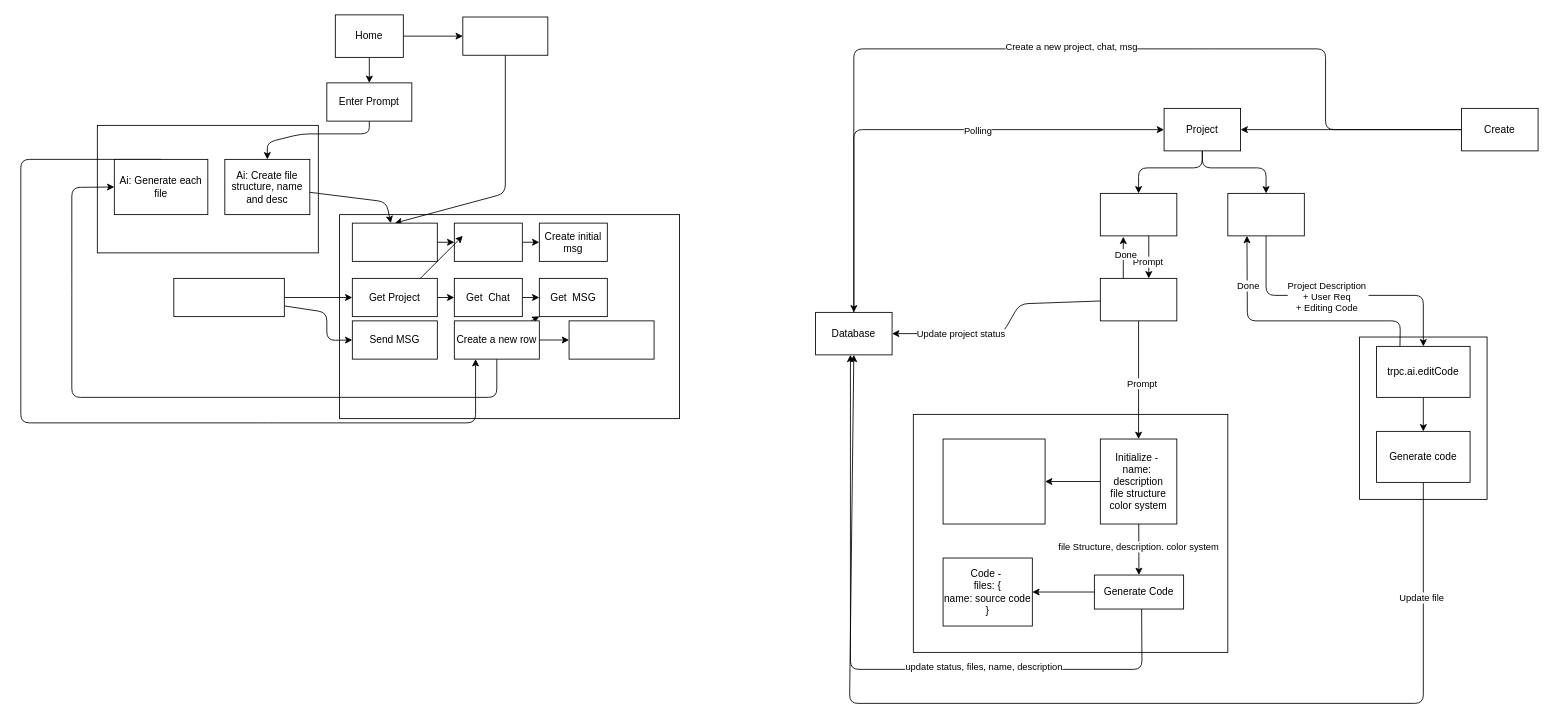
Image size: 1553x725. Some labels were removed from this diagram. The shapes that lost their labels are listed below. From the top down, each one's box as (x1, y1, x2, y2) in pixels, then its label:
(462, 16, 548, 55): Create new Project
(1099, 193, 1177, 236): Initial
(1227, 193, 1304, 236): Editing
(351, 222, 437, 261): Create a project
(453, 222, 522, 261): Create Chat
(173, 278, 284, 317): Project/ProjectId
(1099, 278, 1177, 321): trpc.ai.getSum
(568, 320, 654, 359): Save Ai res in a new row
(942, 438, 1045, 524): File Structure - file structure : { filename: "what this file do" }
